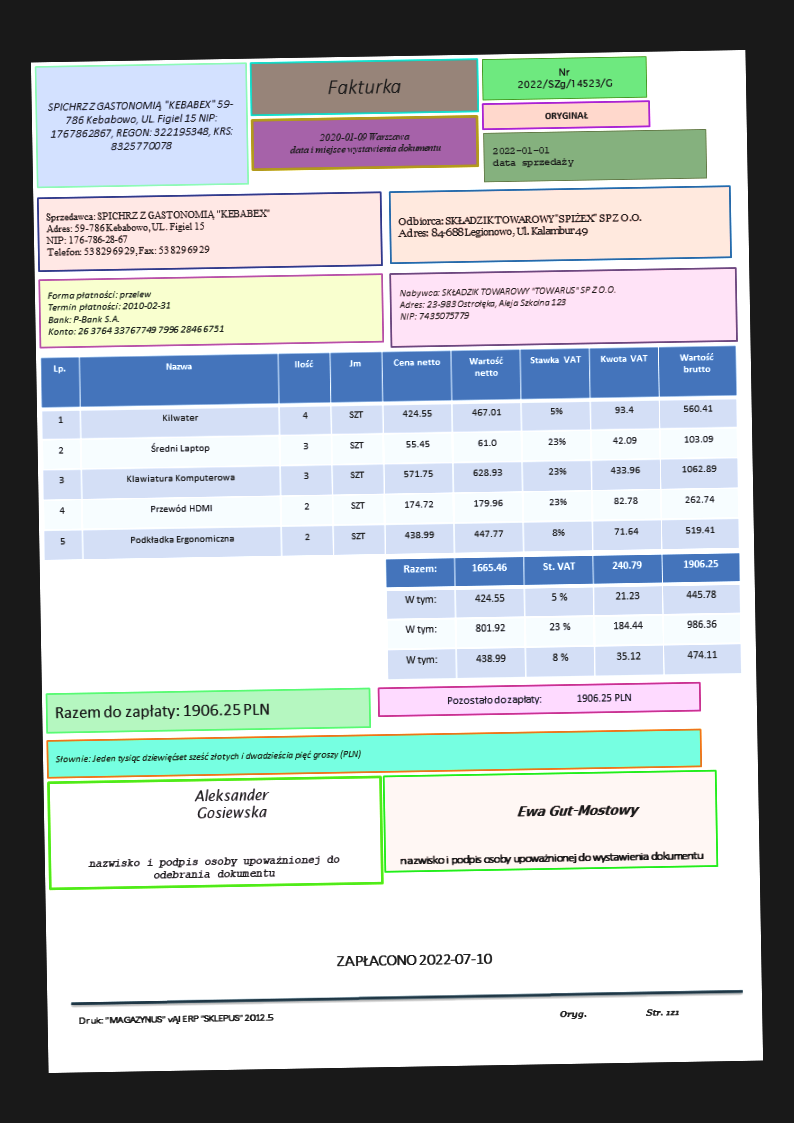Table: (39, 344, 741, 562), (384, 552, 742, 680)
TextBox: (43, 205, 274, 259), (42, 96, 236, 156), (44, 286, 227, 338), (396, 283, 618, 323), (394, 209, 642, 241), (86, 852, 340, 882), (397, 848, 705, 869), (54, 747, 363, 765), (53, 699, 271, 723), (288, 129, 443, 157), (333, 949, 494, 971), (75, 1011, 275, 1028), (445, 690, 632, 707), (192, 786, 274, 822), (515, 800, 642, 823), (514, 64, 615, 92), (491, 143, 576, 171), (556, 1005, 682, 1021), (325, 77, 402, 99), (541, 109, 590, 121)
